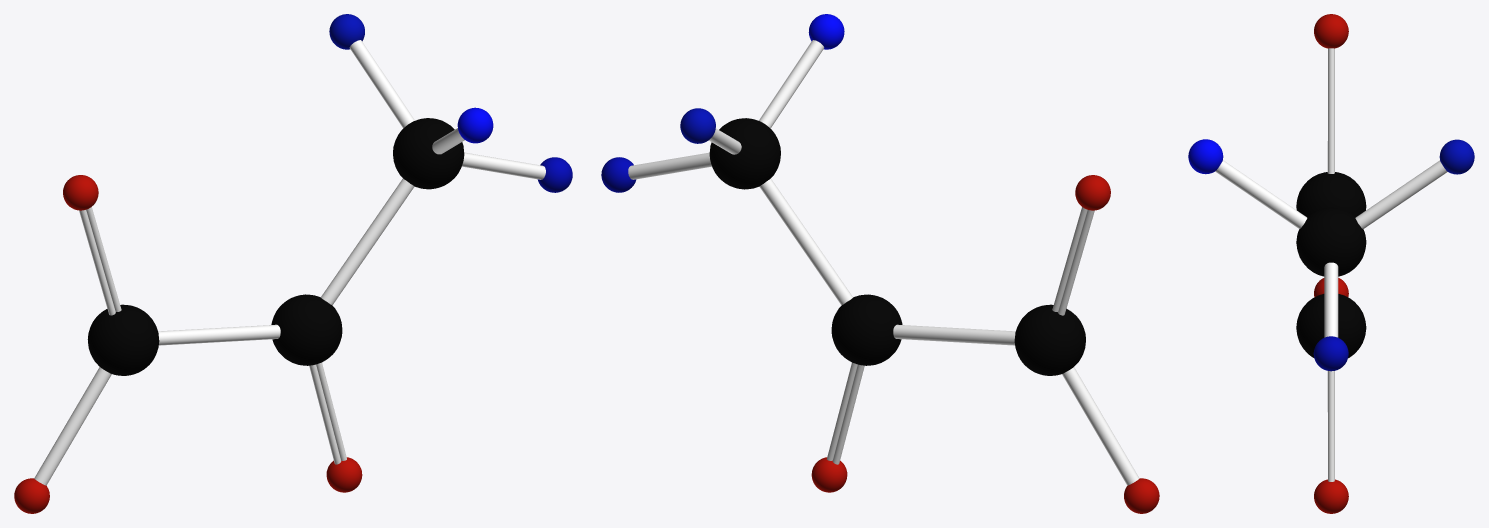
File: pyruvatemolecule.fbx
The picture shows the model from 3 angles, left to right: view 1: azimuth 30°, elevation 25°; view 2: azimuth 150°, elevation 25°; view 3: azimuth 270°, elevation 25°; orthographic projection. The views are drawn at different scales.
Visible parts, largest first — view 1: Atom6_Clone__2, Atom6_Clone__1, Atom6_Clone_, Bond1_Clone__1, Bond1_Clone_, Bond1_Clone__5, Bond1_Clone__3, Bond1_Clone__4, Atom1_Clone_, AtomMissing_Clone__2, AtomMissing_Clone__1, AtomMissing_Clone_ (+6 smaller); view 2: Atom6_Clone__2, Atom6_Clone__1, Atom6_Clone_, Bond1_Clone__1, Bond1_Clone_, Bond1_Clone__5, Bond1_Clone__2, Bond1_Clone__4, Atom1_Clone__1, AtomMissing_Clone__2, AtomMissing_Clone__1, AtomMissing_Clone_ (+6 smaller); view 3: Atom6_Clone_, Atom6_Clone__1, Atom6_Clone__2, Bond1_Clone__3, Bond1_Clone__2, Bond1_Clone__4, Atom1_Clone__2, Atom1_Clone__1, AtomMissing_Clone__2, Atom1_Clone_, AtomMissing_Clone_, Bond2B_1 (+1 smaller).
Boxes of the visible parts, x1=… form: Atom6_Clone__2: x1=87, y1=304, x2=159, y2=375; Atom6_Clone__1: x1=271, y1=294, x2=342, y2=365; Atom6_Clone_: x1=393, y1=118, x2=464, y2=189; Bond1_Clone__1: x1=321, y1=178, x2=414, y2=305; Bond1_Clone_: x1=34, y1=367, x2=111, y2=485; Bond1_Clone__5: x1=158, y1=324, x2=280, y2=345; Bond1_Clone__3: x1=349, y1=40, x2=414, y2=128; Bond1_Clone__4: x1=462, y1=152, x2=545, y2=179; Atom1_Clone_: x1=457, y1=107, x2=493, y2=143; AtomMissing_Clone__2: x1=63, y1=175, x2=98, y2=210; AtomMissing_Clone__1: x1=14, y1=478, x2=49, y2=513; AtomMissing_Clone_: x1=326, y1=457, x2=362, y2=492; Atom6_Clone__2: x1=1014, y1=304, x2=1085, y2=375; Atom6_Clone__1: x1=831, y1=294, x2=902, y2=365; Atom6_Clone_: x1=709, y1=118, x2=780, y2=189; Bond1_Clone__1: x1=759, y1=178, x2=852, y2=305; Bond1_Clone_: x1=1062, y1=367, x2=1139, y2=485; Bond1_Clone__5: x1=893, y1=324, x2=1015, y2=345; Bond1_Clone__2: x1=759, y1=40, x2=824, y2=128; Bond1_Clone__4: x1=628, y1=152, x2=711, y2=179; Atom1_Clone__1: x1=680, y1=108, x2=715, y2=143; AtomMissing_Clone__2: x1=1075, y1=175, x2=1110, y2=210; AtomMissing_Clone__1: x1=1124, y1=478, x2=1159, y2=513; AtomMissing_Clone_: x1=811, y1=457, x2=847, y2=492; Atom6_Clone_: x1=1296, y1=207, x2=1366, y2=276; Atom6_Clone__1: x1=1296, y1=294, x2=1366, y2=358; Atom6_Clone__2: x1=1296, y1=172, x2=1366, y2=217; Bond1_Clone__3: x1=1355, y1=160, x2=1447, y2=229; Bond1_Clone__2: x1=1215, y1=160, x2=1307, y2=228; Bond1_Clone__4: x1=1324, y1=262, x2=1338, y2=337; Atom1_Clone__2: x1=1313, y1=336, x2=1348, y2=371; Atom1_Clone__1: x1=1439, y1=139, x2=1474, y2=174; AtomMissing_Clone__2: x1=1314, y1=14, x2=1348, y2=48; Atom1_Clone_: x1=1188, y1=139, x2=1223, y2=174; AtomMissing_Clone_: x1=1314, y1=479, x2=1348, y2=513; Bond2B_1: x1=1327, y1=48, x2=1334, y2=173.
Size of the model in its own units: 446 by 318 by 204.
